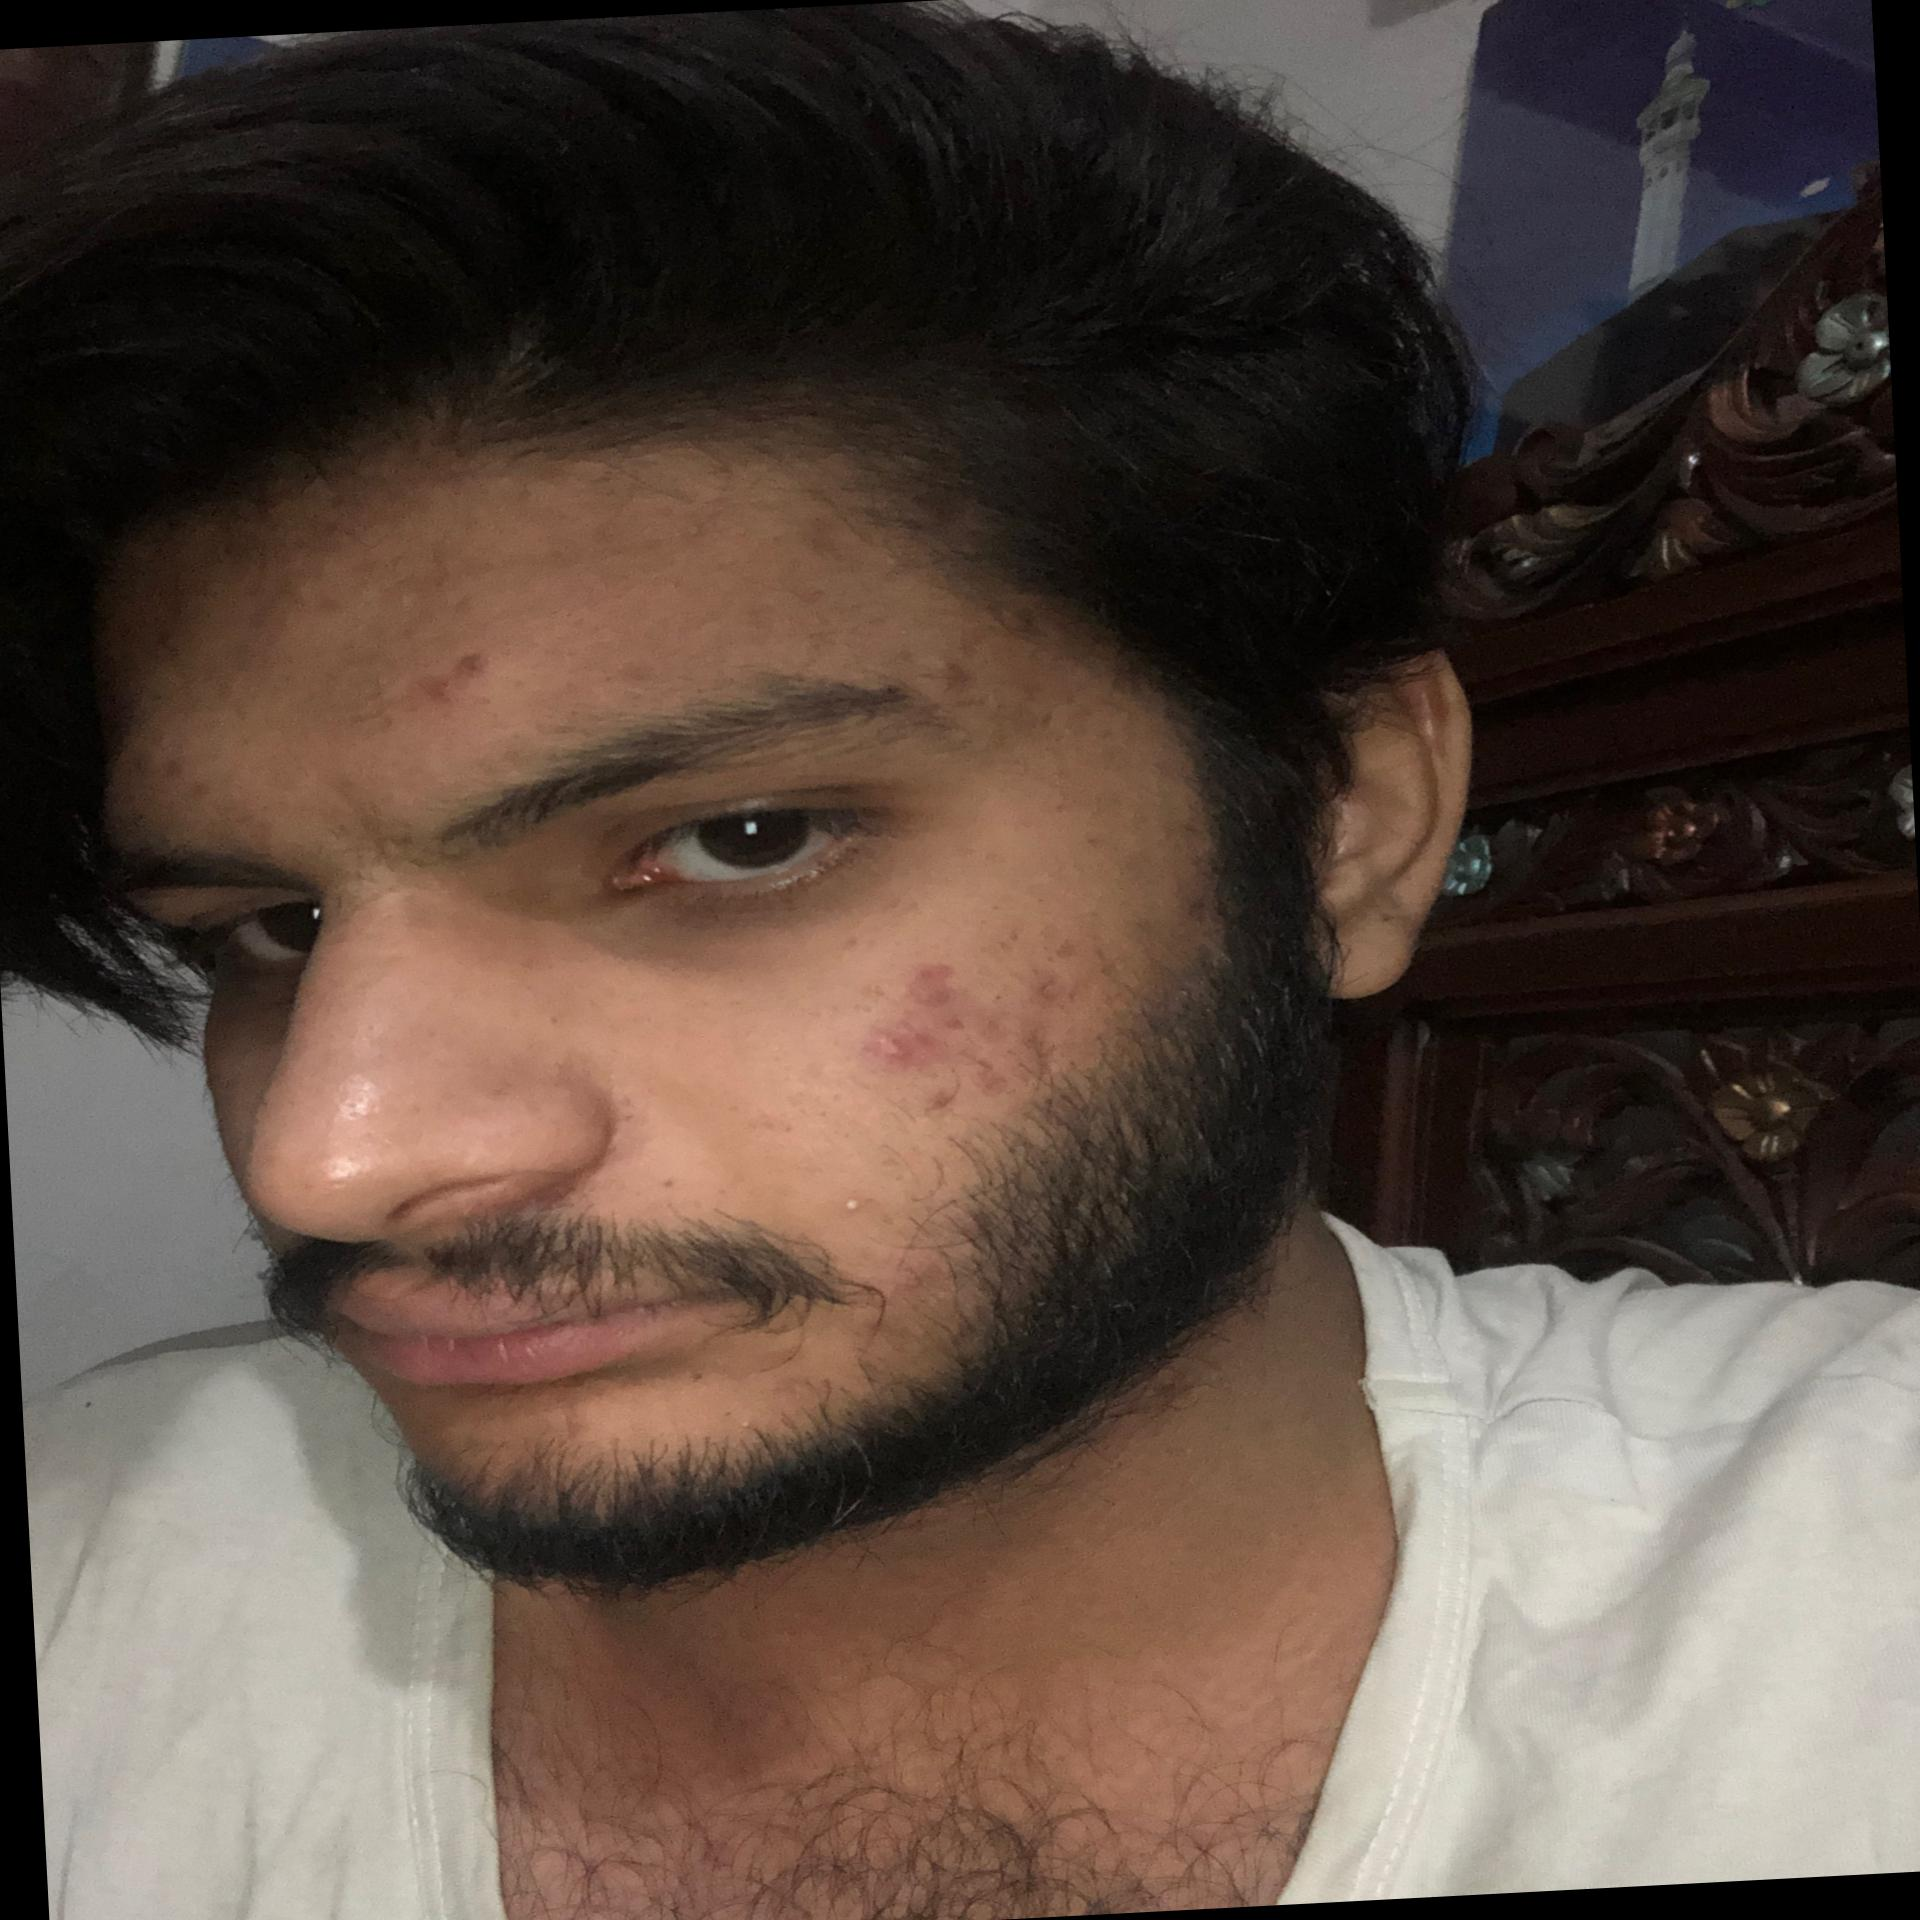Acne: (394, 638, 515, 709), (920, 612, 999, 700), (837, 1007, 948, 1069), (902, 949, 967, 1013), (610, 635, 677, 691), (967, 1060, 1044, 1106), (269, 573, 352, 615), (155, 751, 211, 802), (789, 506, 842, 559), (913, 1078, 967, 1124), (825, 1180, 877, 1222), (1048, 918, 1087, 965), (673, 508, 712, 552), (1030, 965, 1065, 1009), (730, 1412, 760, 1433)
Wrinkles: (334, 775, 418, 898)
